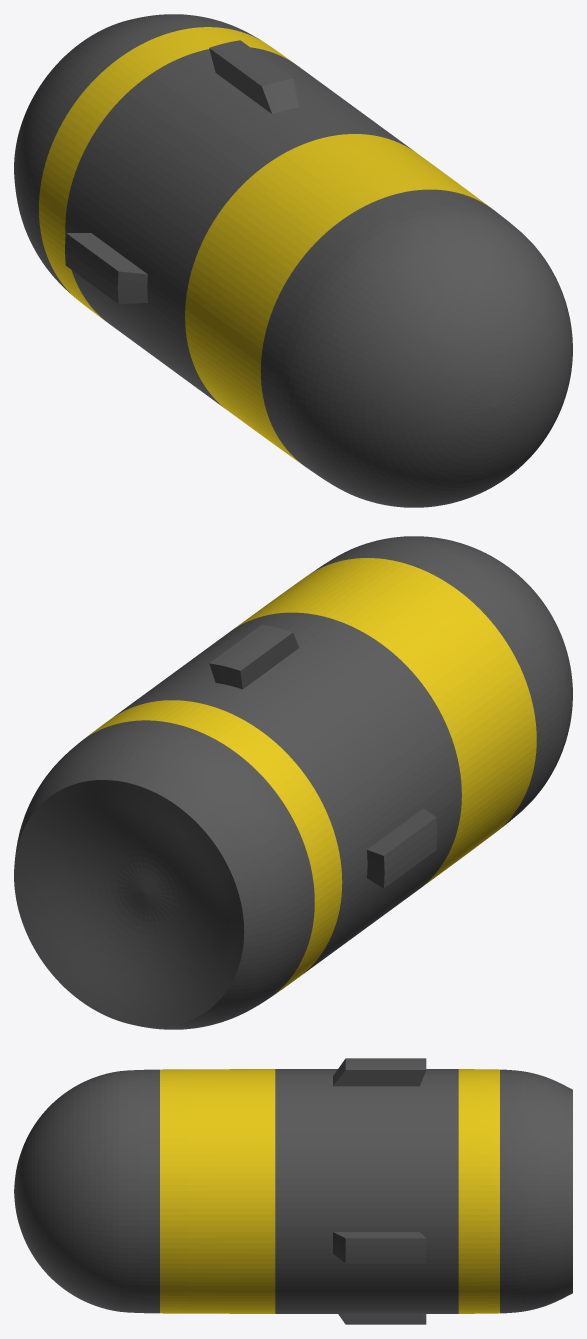
File: SuperMisile.fbx
The picture shows the model from 3 angles, top to bottom: view 1: azimuth 30°, elevation 25°; view 2: azimuth 150°, elevation 25°; view 3: azimuth 270°, elevation 25°; orthographic projection. The views are drawn at different scales.
Parts seen in each view (by area): view 1: Sphere; view 2: Sphere; view 3: Sphere.
Boxes of the visible parts, x1,y1,x2,y2 form: Sphere: [14, 14, 572, 507]; Sphere: [14, 536, 572, 1029]; Sphere: [14, 1058, 572, 1324].
Size of the model in its own units: 3.44 by 3.44 by 6.81.
